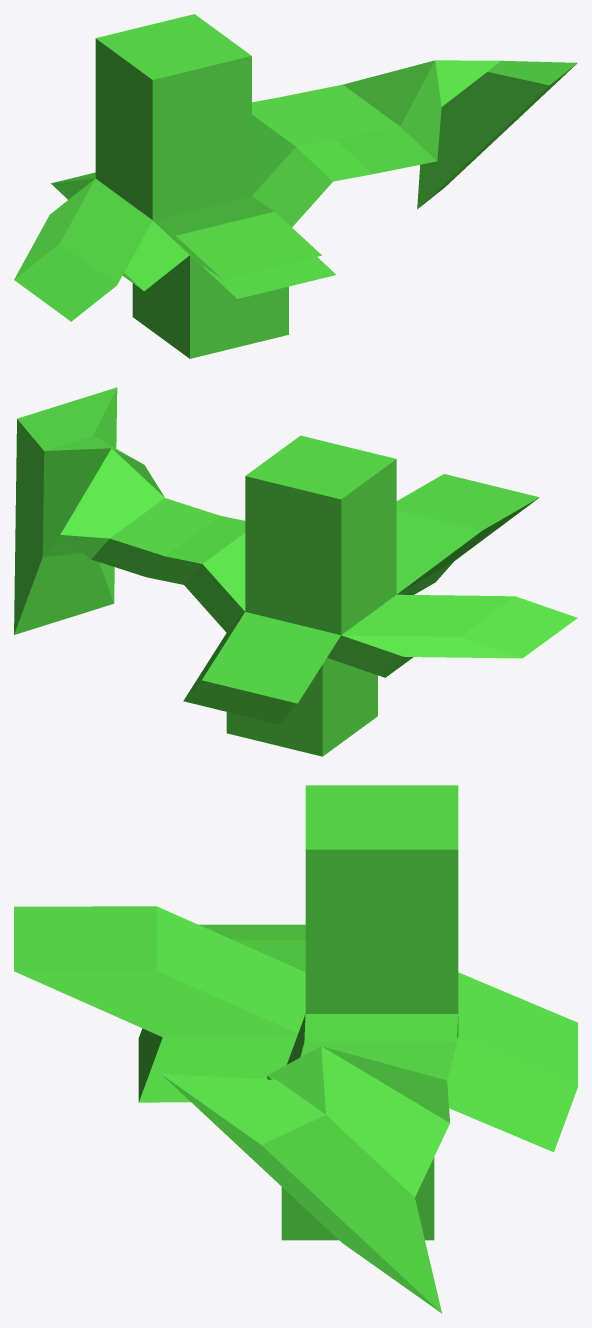
3 views of the same model, one above another, from view 1: azimuth 30°, elevation 25°; view 2: azimuth 150°, elevation 25°; view 3: azimuth 270°, elevation 25° (orthographic). The views are drawn at different scales.
Parts seen in each view (by area): view 1: Cube; view 2: Cube; view 3: Cube.
Part boxes in pixels (x1=…): Cube: x1=14, y1=14, x2=577, y2=358; Cube: x1=14, y1=387, x2=577, y2=756; Cube: x1=14, y1=785, x2=577, y2=1313.
Size of the model in its own units: 10.96 by 5.38 by 7.39.
